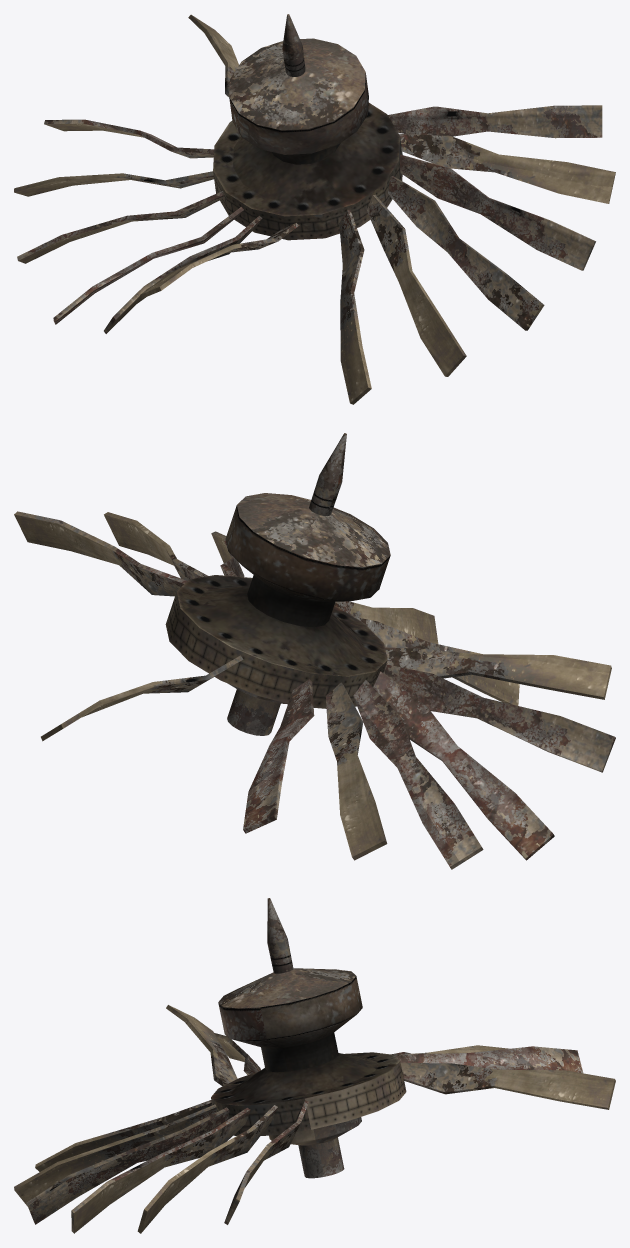
The model's file is rubble_blades_3x3.dae.
3 renders of one model, top to bottom at view 1: azimuth 30°, elevation 25°; view 2: azimuth 150°, elevation 25°; view 3: azimuth 270°, elevation 25°, orthographic. The views are drawn at different scales.
Parts seen in each view (by area): view 1: rotary; view 2: rotary; view 3: rotary.
Boxes of the visible parts, x1,y1,x2,y2 form: rotary: [14, 14, 615, 404]; rotary: [14, 433, 615, 869]; rotary: [14, 898, 615, 1233].
Size of the model in its own units: 8.71 by 8.86 by 4.99.
Materials: 1 (1 with a texture image).
